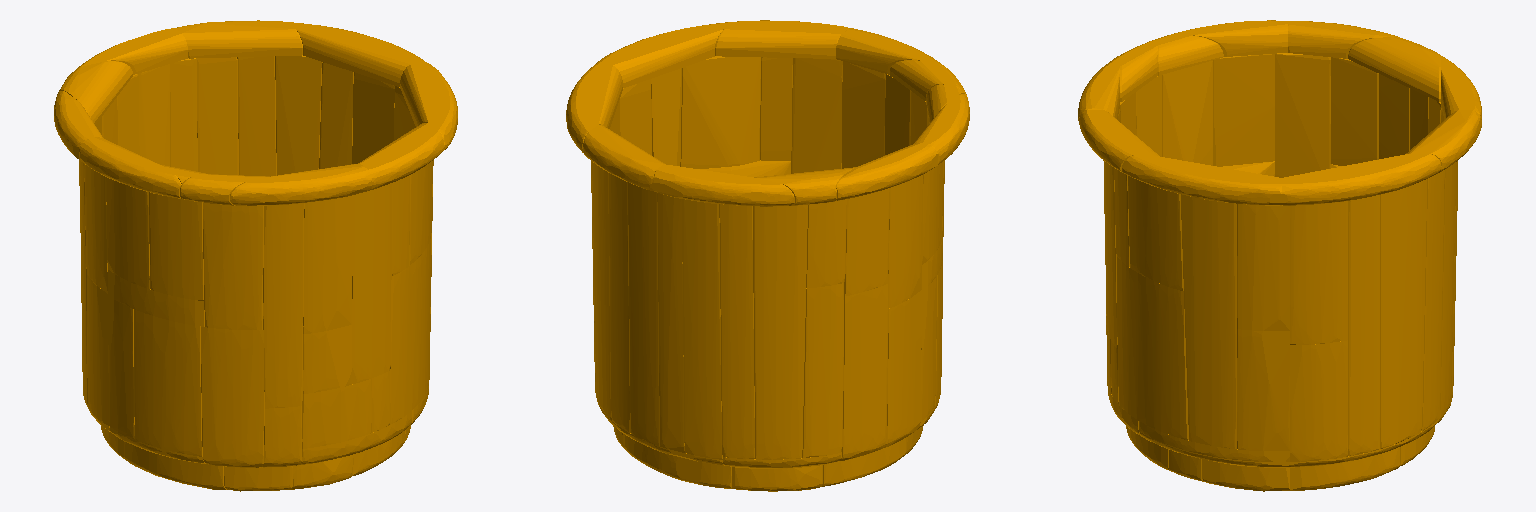
The robot description file, URDF, robot "065-f_cups":
<?xml version="1.0" encoding="UTF-8"?>
<robot name="065-f_cups">
	<link name="base">
		<collision>
			<geometry>
				<mesh filename="..\vhacd\065-f_cups_vhacd.obj" scale="1.0 1.0 1.0"/>
			</geometry>
			<origin xyz="0 0 0"/>
			<contact_coefficients mu="0.24" />
		</collision>
		<visual>
			<geometry>
				<mesh filename="..\vhacd\065-f_cups_vhacd.obj" scale="1.0 1.0 1.0"/>
			</geometry>
			<origin xyz="0 0 0"/>
		</visual>
		<inertial>
			<mass value="0"/>
			<inertia ixx="0.0" ixy="0.0" ixz="-0.0" iyy="0.0" iyz="-0.0" izz="0.0" />
			<origin xyz="-0.037522782063667035 0.024731456108201138 0.03143344851518189"/>
		</inertial>
	</link>
</robot>

--- Facts derived from the render (not from the file) ---
Views: 3 orthographic renders of the robot side by side, from view 1: azimuth 30°, elevation 25°; view 2: azimuth 150°, elevation 25°; view 3: azimuth 270°, elevation 25°.
Robot: 065-f_cups — 1 links, 0 joints (none); root link base; default pose: every joint at zero.
Links seen in each view (by area): view 1: base; view 2: base; view 3: base.
Boxes of the visible links, left/top/right/bottom form: base: left=54, top=20, right=457, bottom=491; base: left=566, top=20, right=969, bottom=491; base: left=1078, top=20, right=1481, bottom=491.
Bounding box of the posed robot: 0.0809 × 0.0811 × 0.0723 m (x, y, z).
1 mesh visuals loaded from 1 distinct referenced files (1 OBJ).